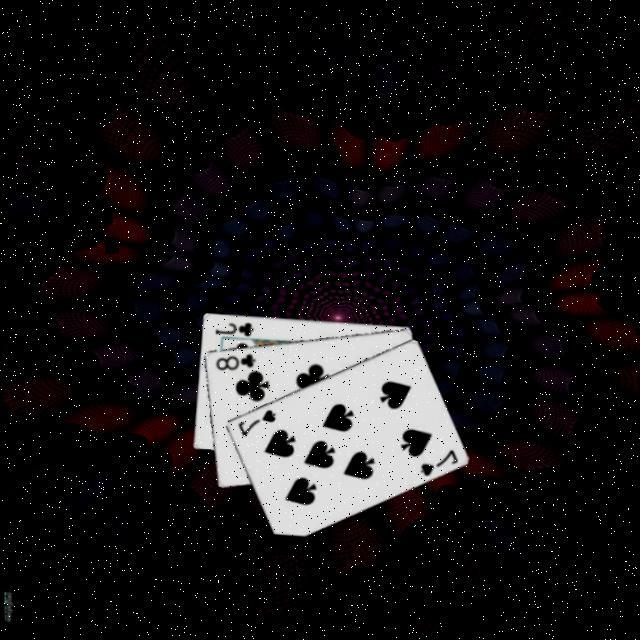7S: (414, 444, 459, 481), (231, 404, 277, 440)
8C: (210, 348, 256, 374)
JC: (209, 316, 254, 339)
